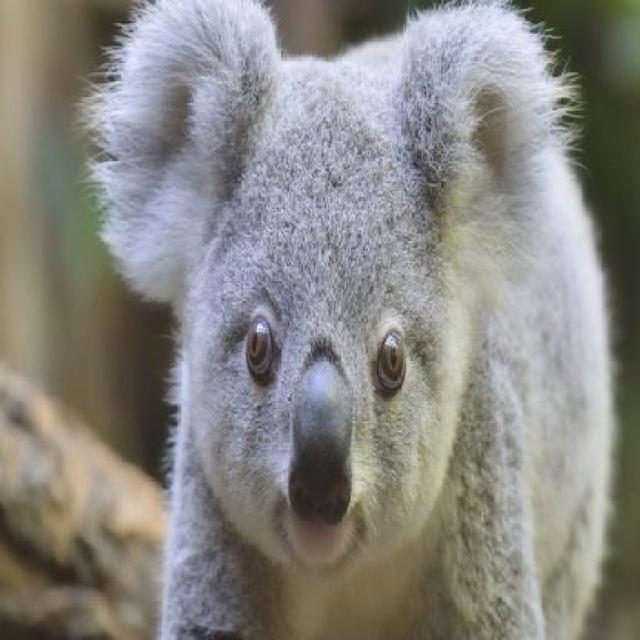Koala: (81, 9, 613, 640)
